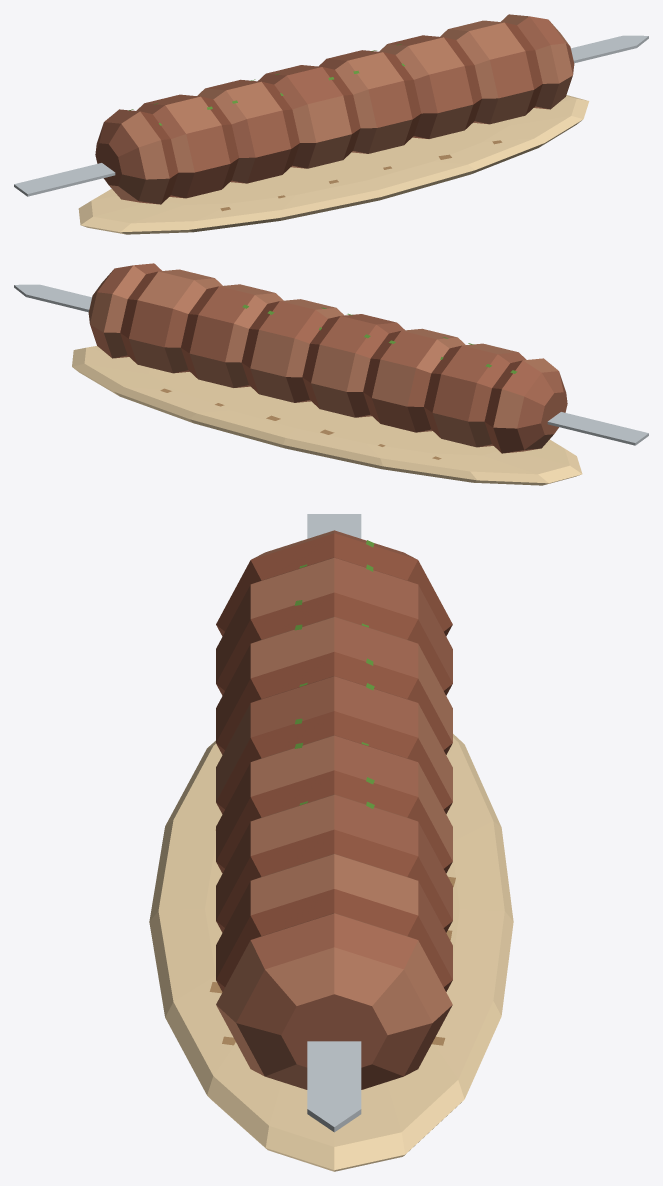
Rendered from kebab-skewer.glb.
3 renders of one model, top to bottom at view 1: azimuth 30°, elevation 25°; view 2: azimuth 150°, elevation 25°; view 3: azimuth 270°, elevation 25°, orthographic. The views are drawn at different scales.
Visible parts, largest first — view 1: kebab-skewer; view 2: kebab-skewer; view 3: kebab-skewer.
Part boxes in pixels (x1=…): kebab-skewer: x1=14, y1=14, x2=648, y2=234; kebab-skewer: x1=14, y1=263, x2=648, y2=485; kebab-skewer: x1=149, y1=514, x2=513, y2=1171.
Bounding box in the file's own units: 0.6 × 0.0966 × 0.1507.
